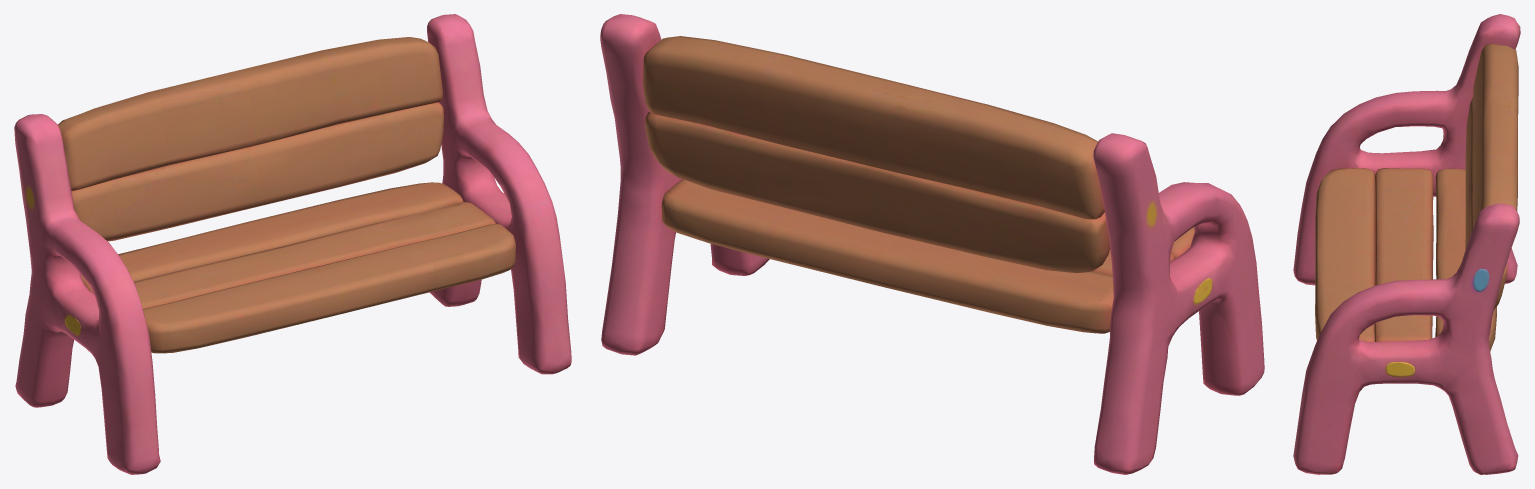
File: park-bench.glb
3 views of the same model, side by side, from view 1: azimuth 30°, elevation 25°; view 2: azimuth 150°, elevation 25°; view 3: azimuth 270°, elevation 25° (orthographic). The views are drawn at different scales.
Visible parts, largest first — view 1: geometry_0; view 2: geometry_0; view 3: geometry_0.
Boxes of the visible parts, left/top/right/bottom form: geometry_0: left=14, top=14, right=571, bottom=474; geometry_0: left=600, top=14, right=1264, bottom=474; geometry_0: left=1293, top=14, right=1520, bottom=474.
Size of the model in its own units: 1 by 0.6038 by 0.4695.
Materials: 1 (1 with a texture image).
